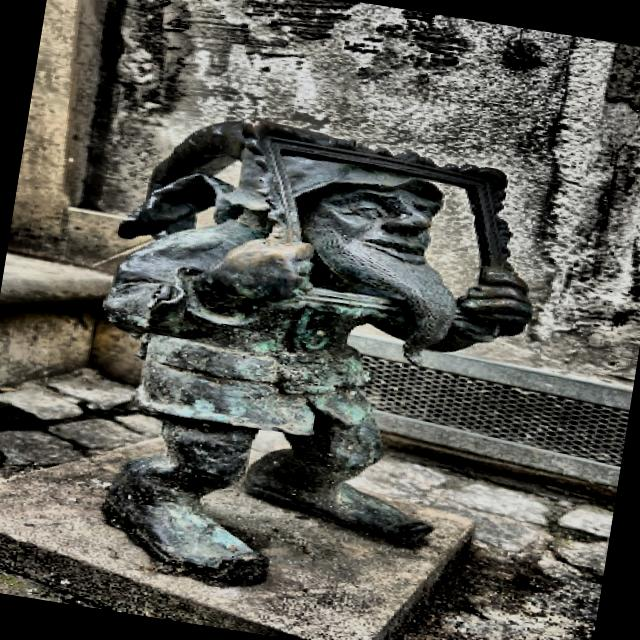Galeriusz: (104, 120, 531, 583)
